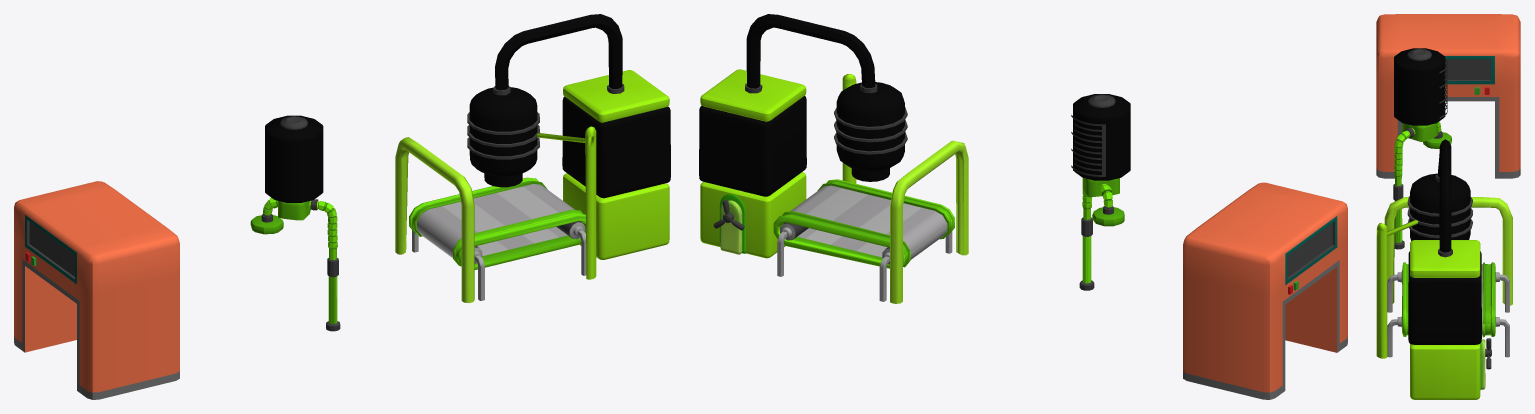
File: Tennis Machine 3.fbx
3 renders of one model, left to right at view 1: azimuth 30°, elevation 25°; view 2: azimuth 150°, elevation 25°; view 3: azimuth 270°, elevation 25°, orthographic. The views are drawn at different scales.
Parts seen in each view (by area): view 1: Line Box, Ball Start machine, Ball COntainer, Conveyor_Belt, Paint container, Conveyor_Belt_Frames, Support, PIpe, Paint Base, Ball Dropper Stand, COnveyer ROller005; view 2: Line Box, Ball Start machine, Ball COntainer, Conveyor_Belt, Conveyor_Belt_Frames, Paint container, Support, PIpe, Paint Base, Paint labbelling, Ball Move Handle Base, COnveyer ROller005 (+1 smaller); view 3: Line Box, Ball Start machine, Paint container, Ball COntainer, Support, Ball Dropper Stand, Paint Base, Conveyor_Belt_Frames, PIpe, COnveyer ROller, COnveyer ROller005, Paint labbelling (+2 smaller).
Boxes of the visible parts, bbox=[...] form: Line Box: bbox=[14, 181, 179, 399]; Ball Start machine: bbox=[562, 70, 670, 259]; Ball COntainer: bbox=[467, 86, 539, 187]; Conveyor_Belt: bbox=[417, 184, 574, 257]; Paint container: bbox=[265, 115, 323, 202]; Conveyor_Belt_Frames: bbox=[409, 177, 585, 269]; Support: bbox=[395, 137, 474, 302]; PIpe: bbox=[495, 14, 622, 90]; Paint Base: bbox=[250, 197, 340, 331]; Ball Dropper Stand: bbox=[537, 126, 596, 279]; COnveyer ROller005: bbox=[556, 221, 586, 275]; Line Box: bbox=[1183, 182, 1347, 399]; Ball Start machine: bbox=[699, 69, 806, 258]; Ball COntainer: bbox=[834, 82, 907, 181]; Conveyor_Belt: bbox=[790, 185, 947, 259]; Conveyor_Belt_Frames: bbox=[773, 179, 954, 268]; Paint container: bbox=[1073, 94, 1130, 180]; Support: bbox=[890, 140, 968, 303]; PIpe: bbox=[746, 14, 875, 88]; Paint Base: bbox=[1079, 178, 1124, 290]; Paint labbelling: bbox=[1071, 94, 1115, 176]; Ball Move Handle Base: bbox=[719, 194, 745, 254]; COnveyer ROller005: bbox=[777, 222, 808, 276]; Line Box: bbox=[1376, 14, 1520, 178]; Ball Start machine: bbox=[1408, 240, 1481, 399]; Paint container: bbox=[1394, 48, 1445, 125]; Ball COntainer: bbox=[1407, 173, 1472, 240]; Support: bbox=[1384, 197, 1512, 305]; Ball Dropper Stand: bbox=[1376, 220, 1418, 358]; Paint Base: bbox=[1393, 121, 1451, 249]; Conveyor_Belt_Frames: bbox=[1402, 262, 1495, 337]; PIpe: bbox=[1437, 139, 1451, 252]; COnveyer ROller: bbox=[1387, 270, 1509, 312]; COnveyer ROller005: bbox=[1387, 316, 1509, 357]; Paint labbelling: bbox=[1407, 48, 1447, 118].
Size of the model in its own units: 486 by 178 by 114.
3 materials, 2 textured.
